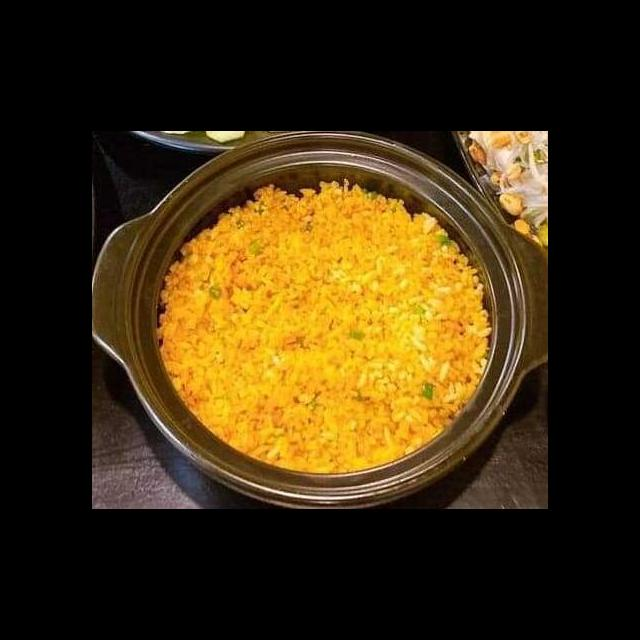com: (148, 175, 496, 478)
